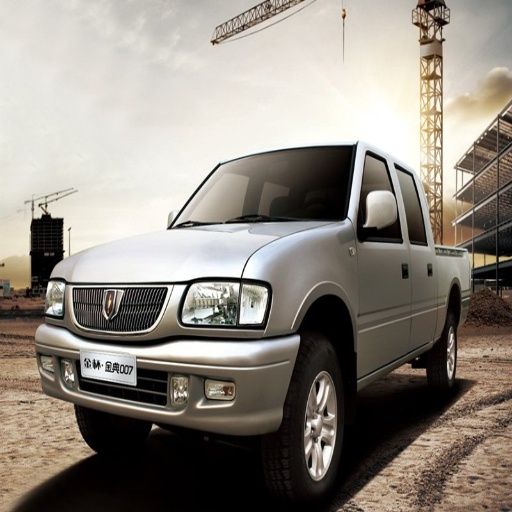front_bumper: (37, 280, 297, 437)
front_glass: (169, 148, 355, 229)
front_left_door: (357, 150, 411, 373)
trunk: (438, 247, 472, 297)
